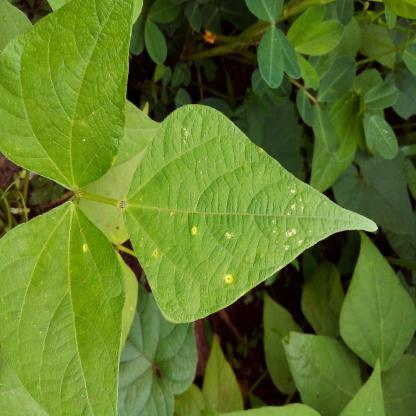Beans_Rust: (127, 108, 379, 322), (0, 0, 133, 194), (0, 205, 122, 416)
